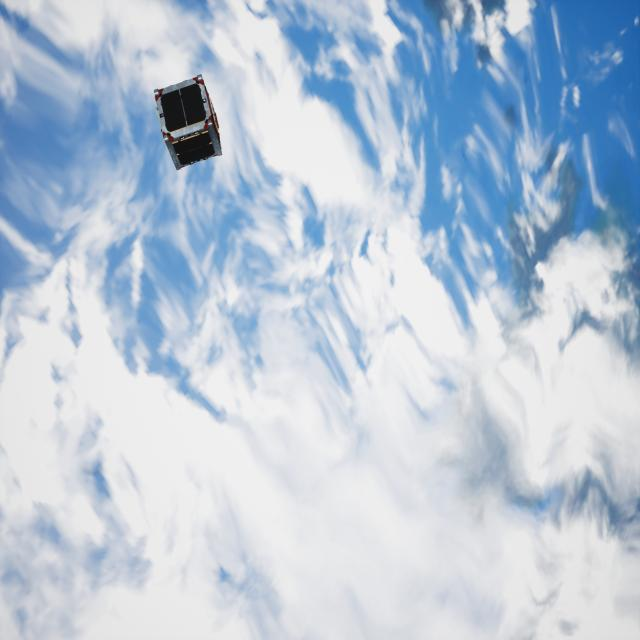satellite: (153, 73, 221, 172)
